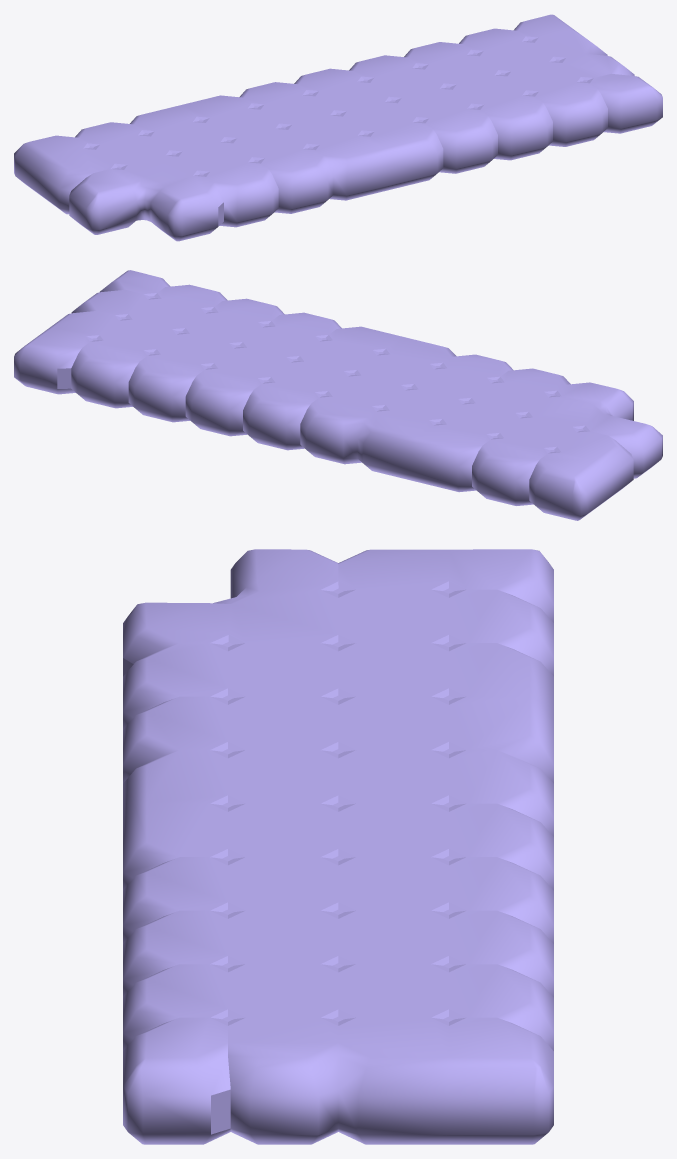
The model's file is BG_cloud1.fbx.
3 renders of one model, top to bottom at view 1: azimuth 30°, elevation 25°; view 2: azimuth 150°, elevation 25°; view 3: azimuth 270°, elevation 25°, orthographic. The views are drawn at different scales.
Parts seen in each view (by area): view 1: BG_cloud1; view 2: BG_cloud1; view 3: BG_cloud1.
Part boxes in pixels (x1,y1,x2,y2): BG_cloud1: (14,14,662,241); BG_cloud1: (14,270,662,520); BG_cloud1: (123,549,553,1144).
Size of the model in its own units: 289 by 20.6 by 98.12.
